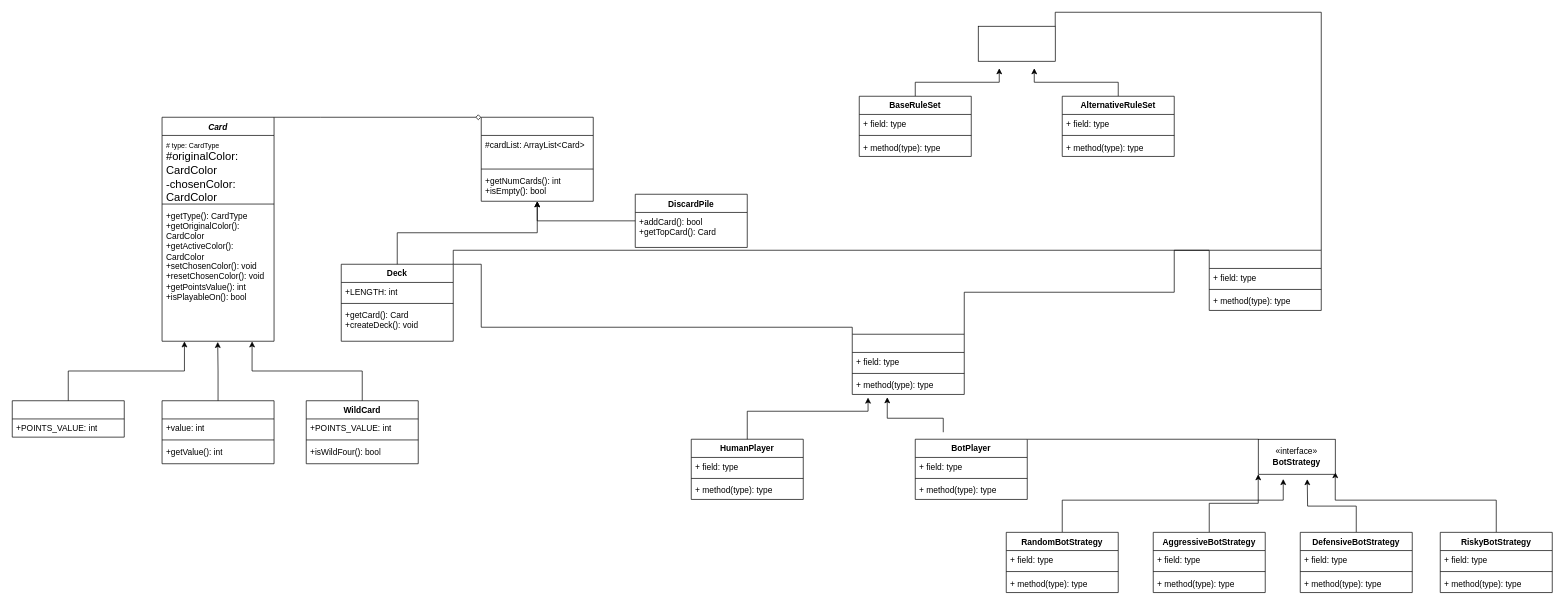
Image size: 1565x607. Some labels were removed from this diagram. Each missing label, with the box of its shape:
ActionCard: (12, 400, 124, 437)
CardCollection: (481, 117, 593, 201)
GameEngine: (1209, 250, 1321, 310)
NumberCard: (161, 400, 274, 464)
Player: (852, 334, 964, 394)
«interface» RuleSet: (978, 26, 1055, 61)
